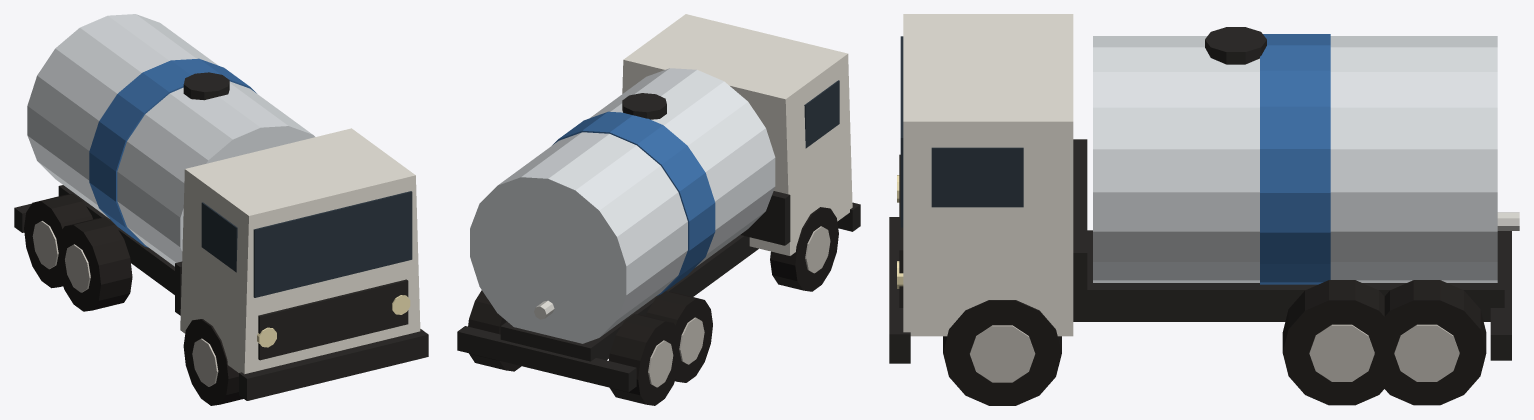
The model's file is wayit.glb.
3 renders of one model, left to right at view 1: azimuth 30°, elevation 25°; view 2: azimuth 150°, elevation 25°; view 3: azimuth 270°, elevation 25°, orthographic. The views are drawn at different scales.
Visible parts, largest first — view 1: wayit; view 2: wayit; view 3: wayit.
Boxes of the visible parts, left/top/right/bottom form: wayit: left=14, top=14, right=428, bottom=405; wayit: left=457, top=14, right=860, bottom=405; wayit: left=889, top=14, right=1519, bottom=405.
Size of the model in its own units: 1.96 by 2.41 by 4.45.
